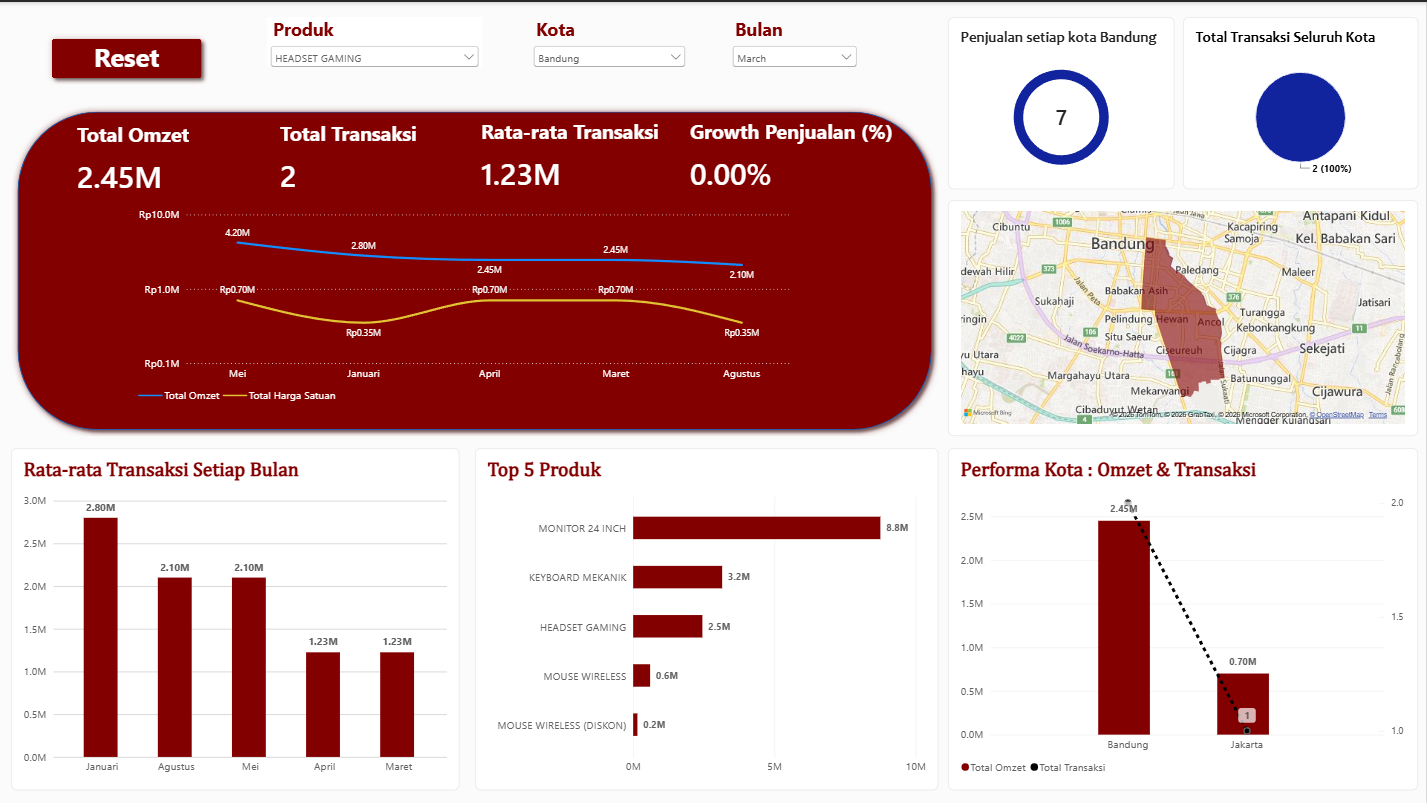

The dashboard page shown, as its layout file describes it:
{"tool":"powerbi","page":{"name":"Duplicate of Duplicate of Page 1","canvas":[1920,1080],"ordinal":0},"visuals":[{"type":"shape","box":[14.6,138.6,1248.9,446.4],"z":0},{"type":"cardVisual","fields":{"Data":["public produksi.Total Omzet"]},"box":[87.5,135.7,300,150],"z":1000},{"type":"lineChart","fields":{"Category":["public produksi.Bulan"],"Y":["public produksi.Total Omzet","public produksi.Total Harga Satuan"]},"box":[170.7,261.2,911.9,299.1],"z":2000},{"type":"slicer","fields":{"Values":["public produksi.Produk"]},"box":[358.9,20.4,290.3,67.1],"z":3000},{"type":"slicer","fields":{"Values":["calendar.Month name"]},"box":[981.9,20.4,176.5,67.1],"z":4000},{"type":"cardVisual","fields":{"Data":["public produksi.Total Transaksi"]},"box":[360.4,134.2,300,150],"z":5000},{"type":"filledMap","fields":{"Category":["public produksi.Kota_Toko"]},"box":[1276.6,267,633.2,318.1],"z":6000},{"type":"slicer","fields":{"Values":["public produksi.Kota_Toko"]},"box":[713.4,20.4,214.5,67.1],"z":7000},{"type":"clusteredColumnChart","title":"Rata-rata Transaksi Setiap Bulan","fields":{"Category":["public produksi.Bulan"],"Y":["public produksi.Rata-rata Transaksi"]},"box":[14.6,601.1,604,461],"z":8000},{"type":"cardVisual","fields":{"Data":["public produksi.Rata-rata Transaksi"]},"box":[631.7,131.3,300,150],"z":9000},{"type":"cardVisual","fields":{"Data":["public produksi.Growth Penjualan (%)"]},"box":[913.3,131.3,319.5,150.3],"z":10000},{"type":"donutChart","fields":{"Category":["public produksi.Kota_Toko"],"Y":["public produksi.Total Quantity"]},"box":[1276.6,20.4,304.9,232],"z":11000},{"type":"clusteredBarChart","title":"Top 5 Produk","fields":{"Category":["public produksi.Produk"],"Y":["public produksi.Total Omzet"]},"box":[639,601.1,624.4,461],"z":12000},{"type":"lineClusteredColumnComboChart","title":"Performa Kota : Omzet & Transaksi","fields":{"Category":["public produksi.Kota_Toko"],"Y":["public produksi.Total Omzet"],"Y2":["public produksi.Total Transaksi"]},"box":[1276.6,601.1,633,461],"z":13000},{"type":"pieChart","title":"Total Transaksi Seluruh Kota","fields":{"Category":["public produksi.Kota_Toko"],"Y":["public produksi.Total Transaksi"]},"box":[1593.2,20.4,316.6,232],"z":14000},{"type":"actionButton","box":[60,40,220,71.4],"z":15000}]}

Visuals, with their boxes in screenshot pixels (x1, y1, x2, y2), scaled from the page's 1920x1080 canvas onto the 1427x803 screenshot:
shape: 11/103/939/435
cardVisual - public produksi.Total Omzet: 65/101/288/212
lineChart - public produksi.Bulan x public produksi.Total Omzet: 127/194/805/417
slicer - public produksi.Produk: 267/15/483/65
slicer - calendar.Month name: 730/15/861/65
cardVisual - public produksi.Total Transaksi: 268/100/491/211
filledMap - public produksi.Kota_Toko: 949/199/1419/435
slicer - public produksi.Kota_Toko: 530/15/690/65
"Rata-rata Transaksi Setiap Bulan" clusteredColumnChart: 11/447/460/790
cardVisual - public produksi.Rata-rata Transaksi: 469/98/692/209
cardVisual - public produksi.Growth Penjualan (%): 679/98/916/209
donutChart - public produksi.Kota_Toko x public produksi.Total Quantity: 949/15/1175/188
"Top 5 Produk" clusteredBarChart: 475/447/939/790
"Performa Kota : Omzet & Transaksi" lineClusteredColumnComboChart: 949/447/1419/790
"Total Transaksi Seluruh Kota" pieChart: 1184/15/1419/188
actionButton: 45/30/208/83
